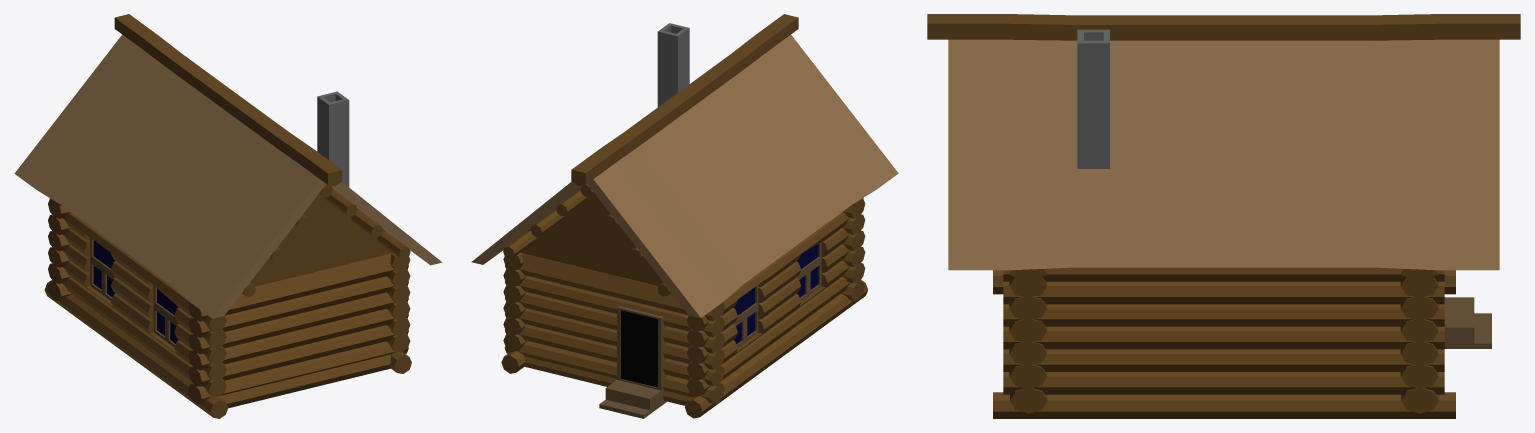
Rendered from Hut.fbx.
3 views of the same model, side by side, from view 1: azimuth 30°, elevation 25°; view 2: azimuth 150°, elevation 25°; view 3: azimuth 270°, elevation 25° (orthographic). The views are drawn at different scales.
Visible parts, largest first — view 1: Cube; view 2: Cube; view 3: Cube.
Part boxes in pixels (<box>): Cube: <box>14,14,442,418</box>; Cube: <box>471,14,898,418</box>; Cube: <box>927,14,1520,418</box>.
Size of the model in its own units: 2270 by 2428 by 3640.
